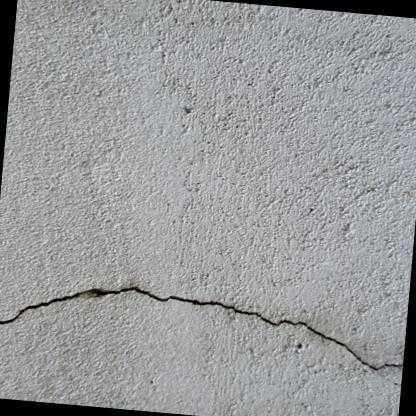crack: (0, 285, 403, 370)
